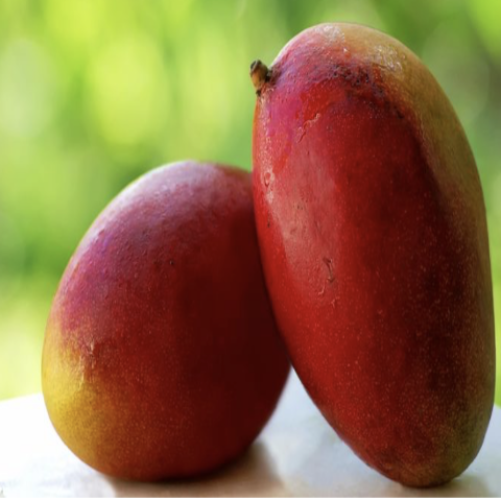mango: (221, 16, 501, 501), (16, 156, 327, 495)
